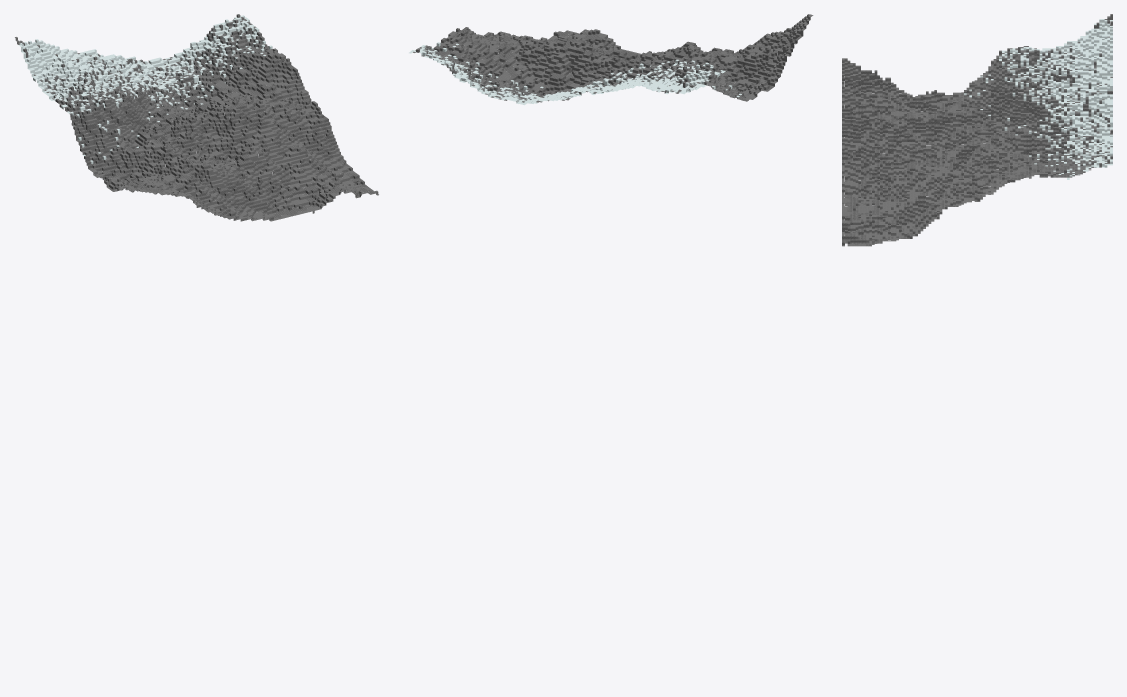
Rendered from chunk2300--2700-lvl-1-transformed.glb.
The picture shows the model from 3 angles, left to right: view 1: azimuth 30°, elevation 25°; view 2: azimuth 150°, elevation 25°; view 3: azimuth 270°, elevation 25°; orthographic projection. The views are drawn at different scales.
Visible parts, largest first — view 1: Stone, Cobblestone, Snow_Block; view 2: Cobblestone, Stone, Snow_Block; view 3: Cobblestone, Stone, Snow_Block.
Part boxes in pixels (x1,y1,x2,y2): Stone: (15, 14, 378, 221); Cobblestone: (17, 22, 378, 220); Snow_Block: (18, 15, 272, 163); Cobblestone: (425, 24, 802, 102); Stone: (413, 14, 813, 102); Snow_Block: (409, 42, 741, 105); Cobblestone: (842, 19, 1112, 246); Stone: (842, 14, 1112, 246); Snow_Block: (964, 19, 1112, 179).
Bounding box in the file's own units: 100 × 226 × 100.
14 materials, 14 textured.
